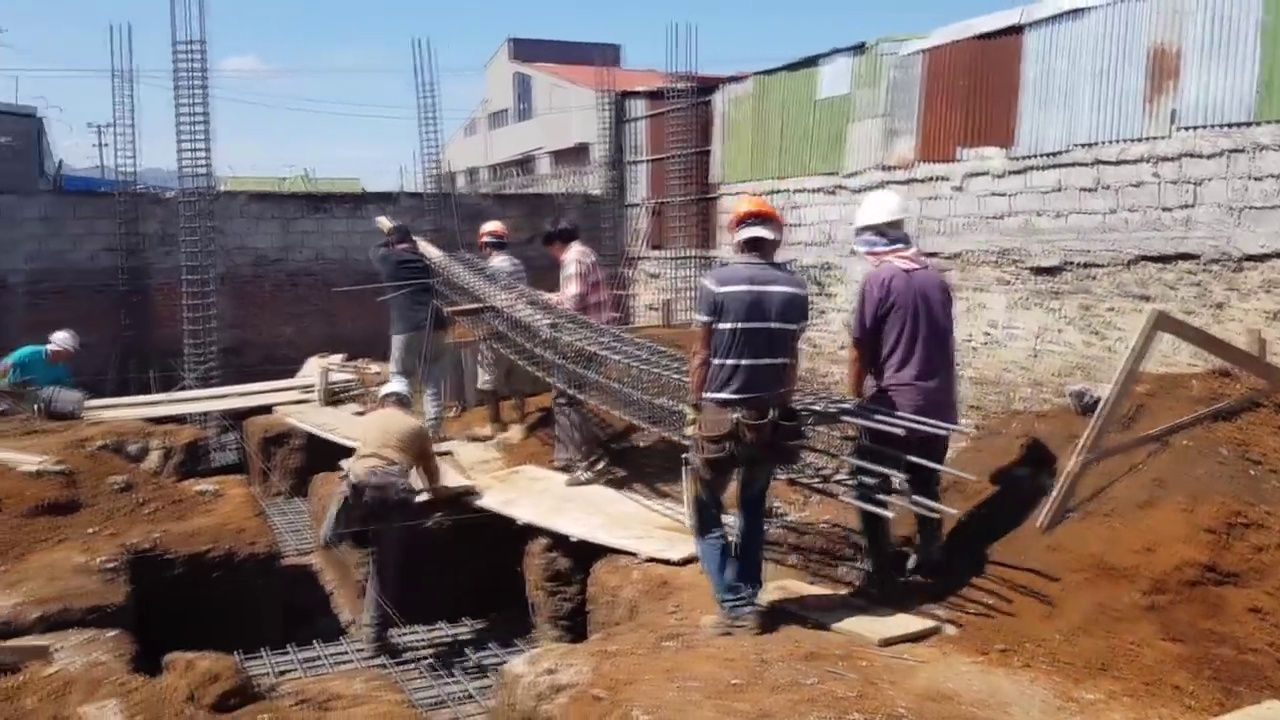helmet: (848, 194, 914, 236), (725, 198, 785, 233), (375, 380, 414, 405), (473, 218, 510, 244), (49, 330, 80, 354)
helmet-off: (544, 218, 581, 261), (385, 222, 412, 249)
helmet-on: (848, 194, 920, 267), (725, 197, 785, 263), (473, 217, 510, 260), (42, 328, 80, 365), (376, 380, 414, 416)
person: (683, 197, 808, 628), (841, 196, 965, 603), (321, 382, 446, 661), (370, 222, 445, 442), (472, 217, 533, 442), (545, 218, 606, 323), (0, 328, 80, 389)
